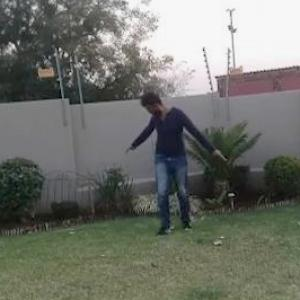land: (101, 78, 220, 249)
